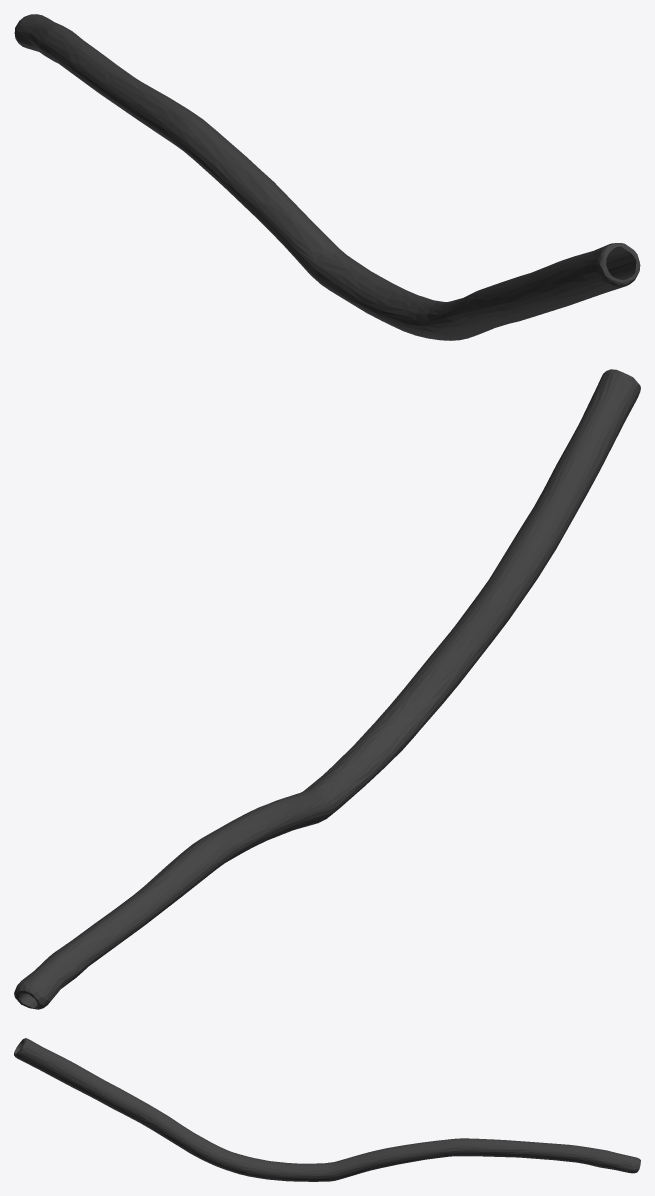
File: OESOPHAGUS.glb
The picture shows the model from 3 angles, top to bottom: view 1: azimuth 30°, elevation 25°; view 2: azimuth 150°, elevation 25°; view 3: azimuth 270°, elevation 25°; orthographic projection. The views are drawn at different scales.
Parts seen in each view (by area): view 1: OESOPHAGUS; view 2: OESOPHAGUS; view 3: OESOPHAGUS.
Boxes of the visible parts, box(x1,y1,x2,y2) form: OESOPHAGUS: box(14, 14, 640, 340); OESOPHAGUS: box(14, 369, 640, 1009); OESOPHAGUS: box(14, 1038, 640, 1181).
Bounding box in the file's own units: 0.00718 × 0.027 × 0.1128.
1 material, 1 textured.
